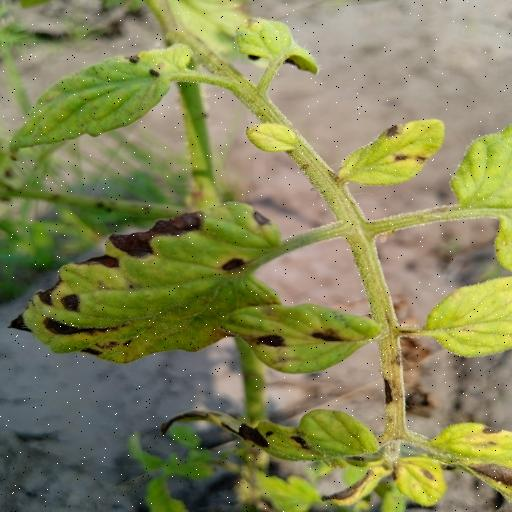Tomato_Brown_Spots: (10, 198, 318, 361), (10, 40, 198, 152), (220, 302, 379, 375), (338, 112, 456, 188)
